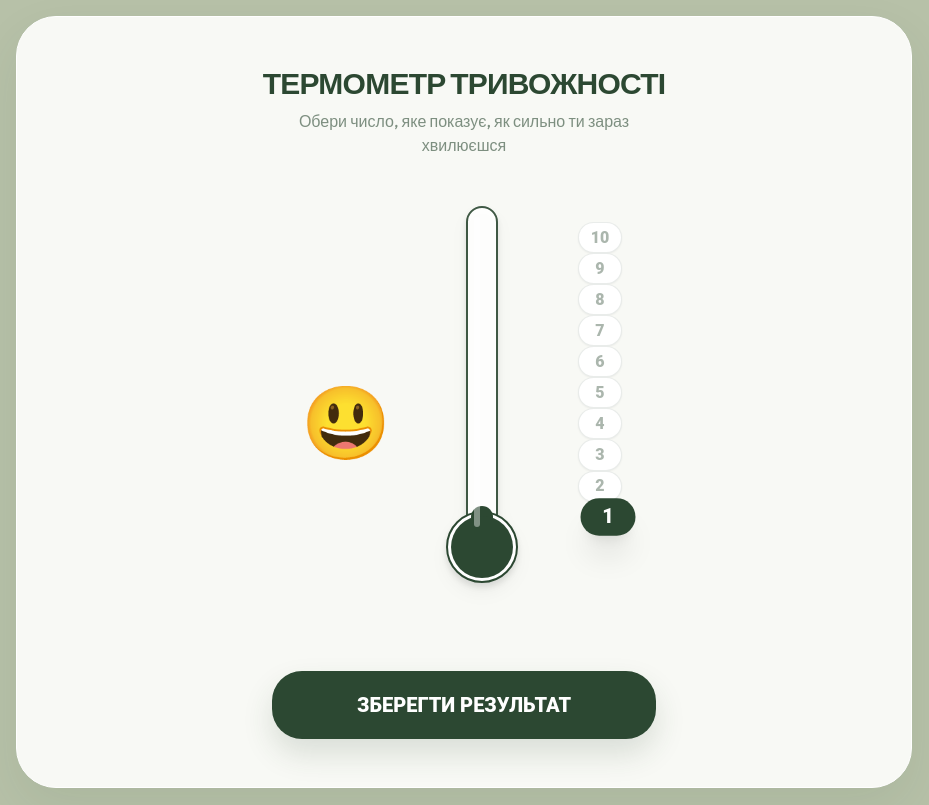
Test case: ChildrenAnxietyMeter › shows correct emoji for high anxiety
Click the button "9": coordinates (600, 269) top-left (578, 253), bottom-right (622, 284)
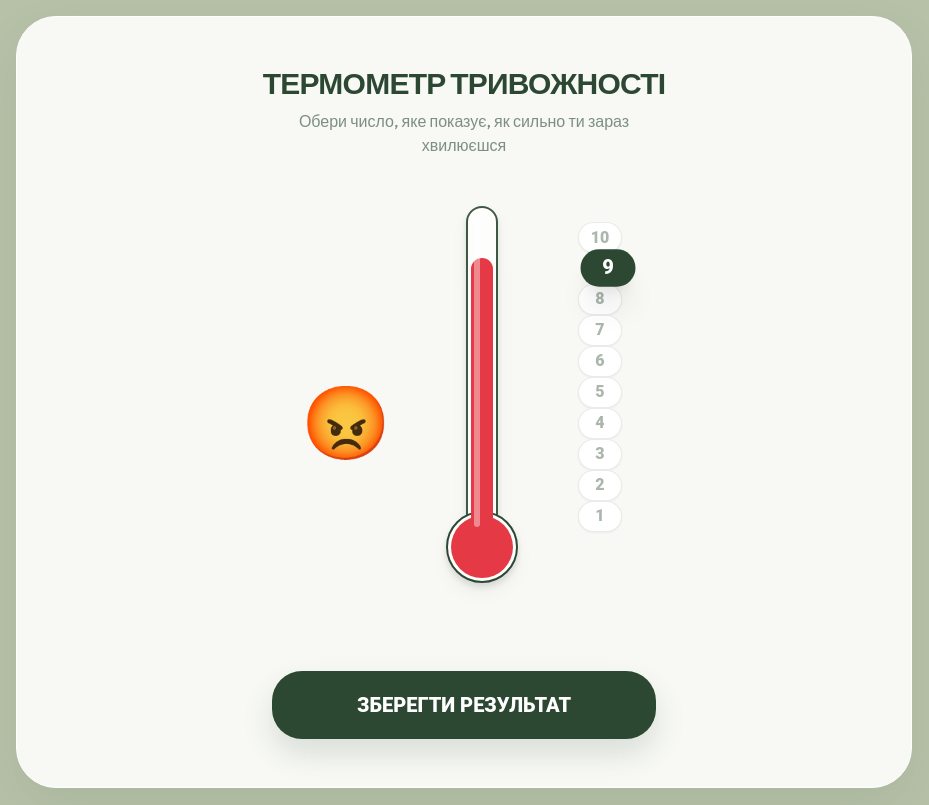
Result: the text "😡" is shown at top-left (301, 386), bottom-right (391, 458)
